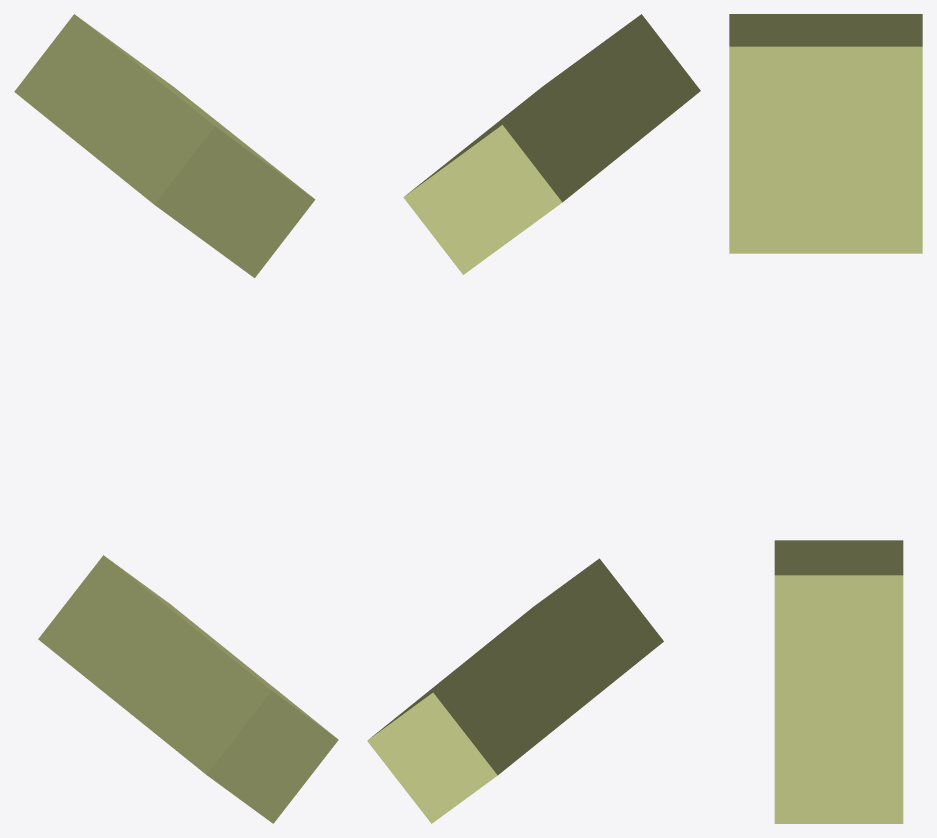
3 renders of one model, left to right at view 1: azimuth 30°, elevation 25°; view 2: azimuth 150°, elevation 25°; view 3: azimuth 270°, elevation 25°, orthographic. The views are drawn at different scales.
Parts seen in each view (by area): view 1: 0_0_1_1_2_0_2_2; view 2: 0_0_1_1_2_0_2_2; view 3: 0_0_1_1_2_0_2_2.
Boxes of the visible parts, left/top/right/bottom form: 0_0_1_1_2_0_2_2: left=14, top=14, right=338, bottom=823; 0_0_1_1_2_0_2_2: left=367, top=14, right=700, bottom=823; 0_0_1_1_2_0_2_2: left=729, top=14, right=922, bottom=823.
Size of the model in its own units: 12.81 by 38.73 by 9.
